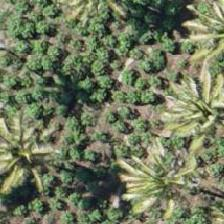coconut_tree: (118, 141, 208, 223), (29, 146, 119, 223), (146, 49, 223, 139), (0, 110, 55, 200), (174, 0, 223, 67)
